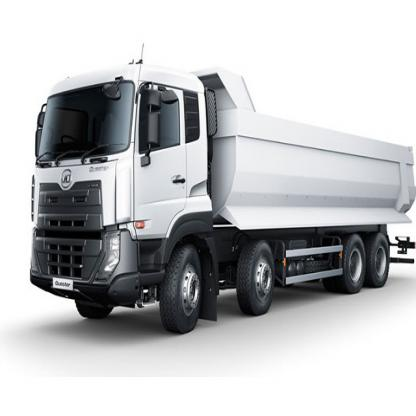dump_truck: (26, 55, 415, 336)
